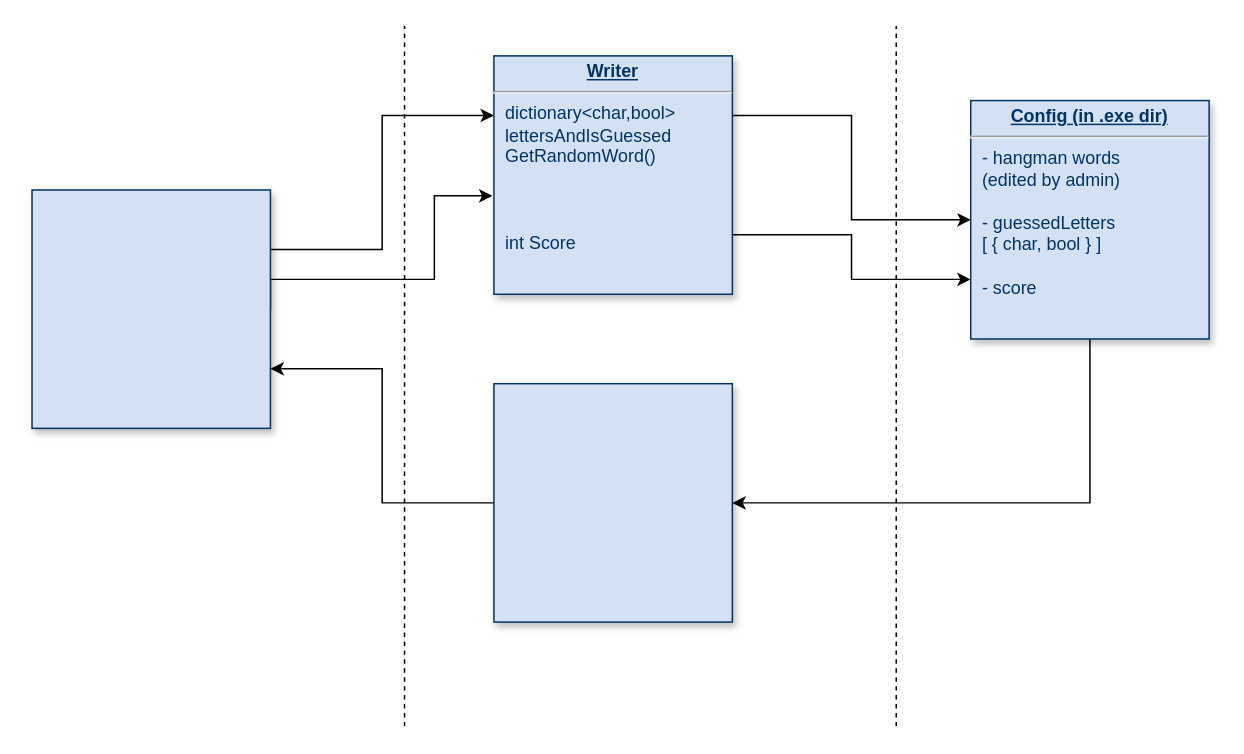
This 1244x754 diagram has some shape labels left out. The shapes that lost their labels are listed below. From the top down, each one's centre as x and y in pixels, then its label:
At (x=152, y=311): "Display GuessLetter() GetWord()".
At (x=613, y=504): "Reader - lettersUpdated - scoreUpdated".
